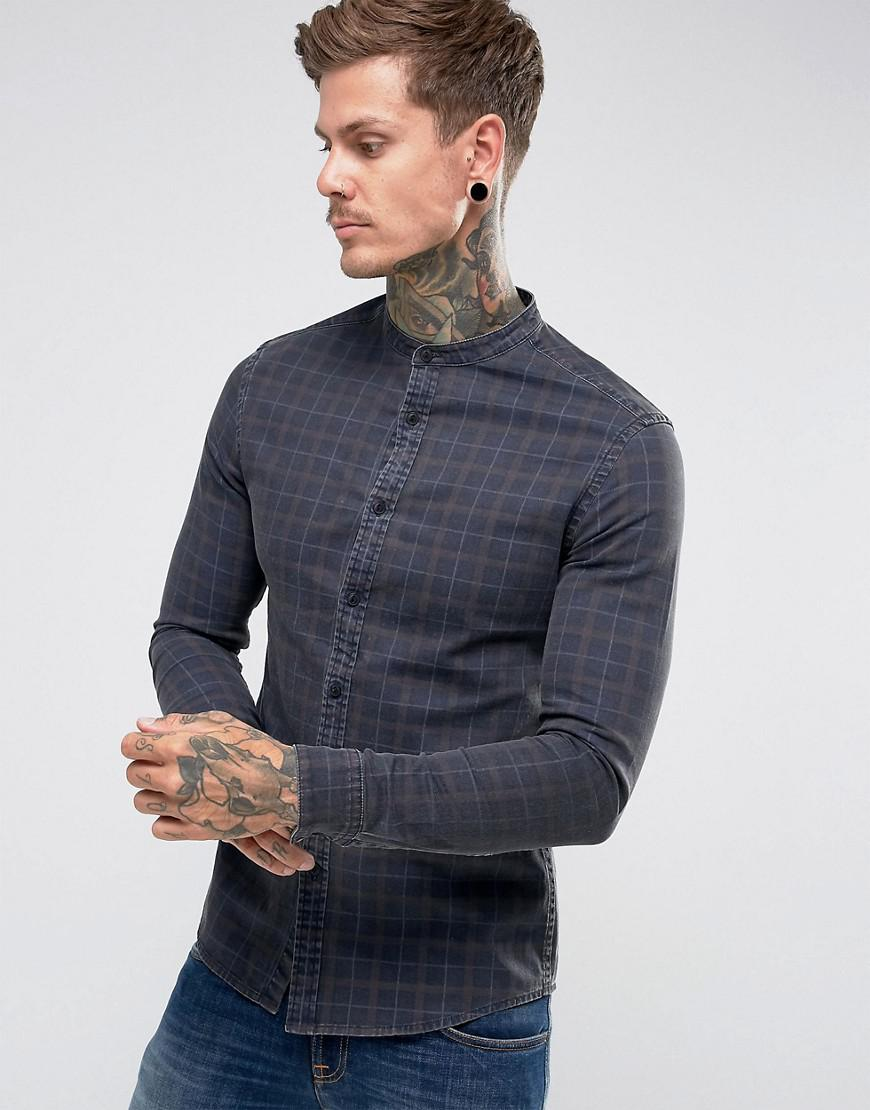teeshirt: (142, 279, 685, 1008)
